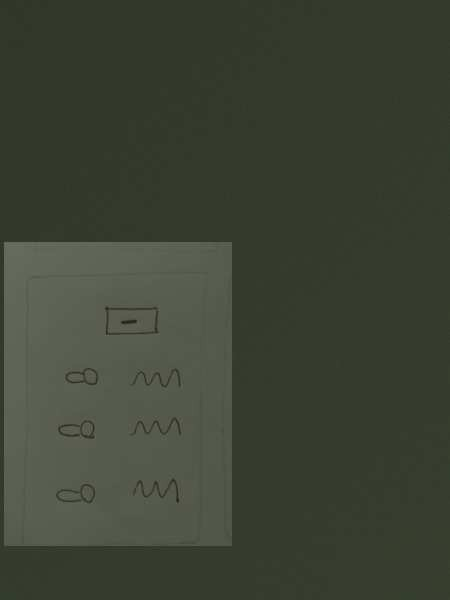button: (100, 302, 166, 342)
switch: (58, 362, 107, 394), (53, 479, 99, 512), (55, 417, 101, 445)
text: (124, 473, 186, 509), (124, 413, 186, 444), (122, 362, 186, 392)
